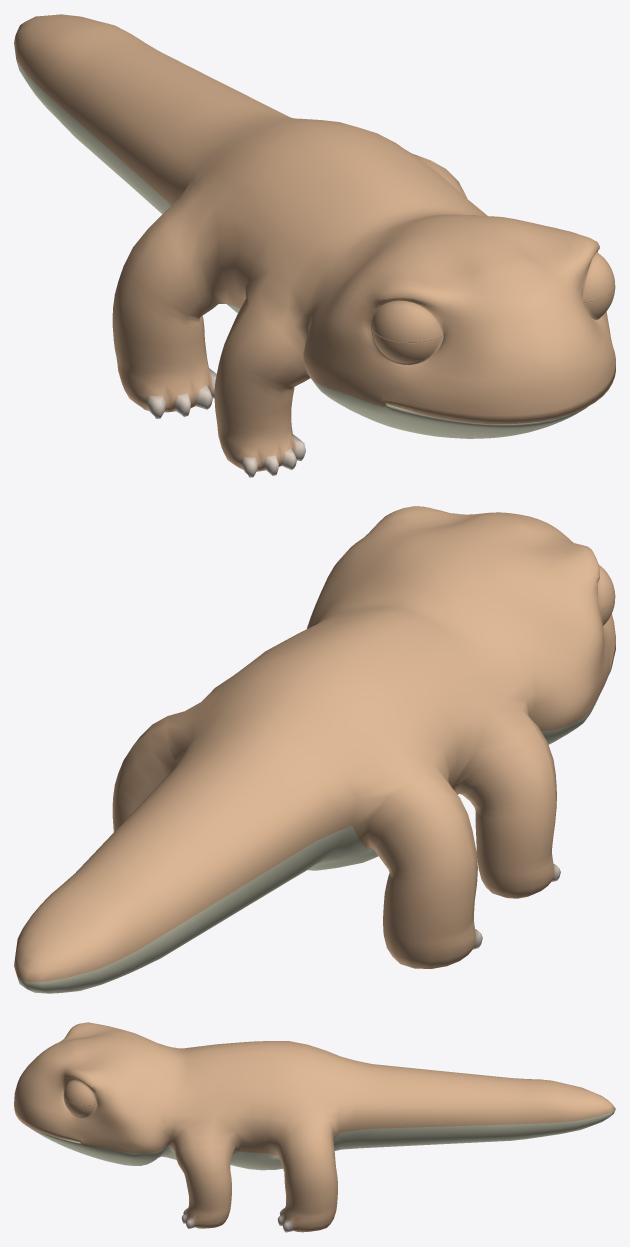
3 views of the same model, one above another, from view 1: azimuth 30°, elevation 25°; view 2: azimuth 150°, elevation 25°; view 3: azimuth 270°, elevation 25° (orthographic). The views are drawn at different scales.
Visible parts, largest first — view 1: body.Mesh; view 2: body.Mesh; view 3: body.Mesh.
Part boxes in pixels (<box>): body.Mesh: <box>14,14,615,477</box>; body.Mesh: <box>14,506,615,993</box>; body.Mesh: <box>14,1022,615,1232</box>.
Size of the model in its own units: 0.2058 by 0.1455 by 0.5383.
